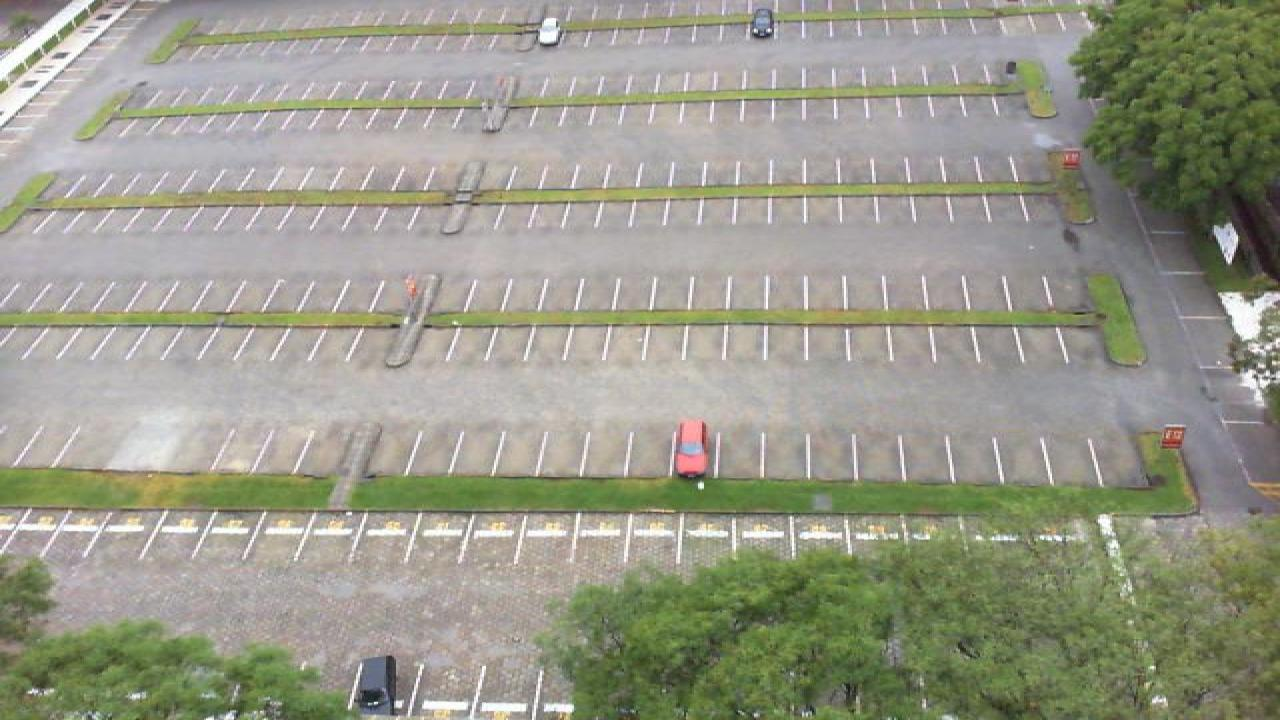Car: (352, 654, 400, 716), (670, 420, 710, 478), (750, 8, 776, 39), (536, 17, 562, 47)
